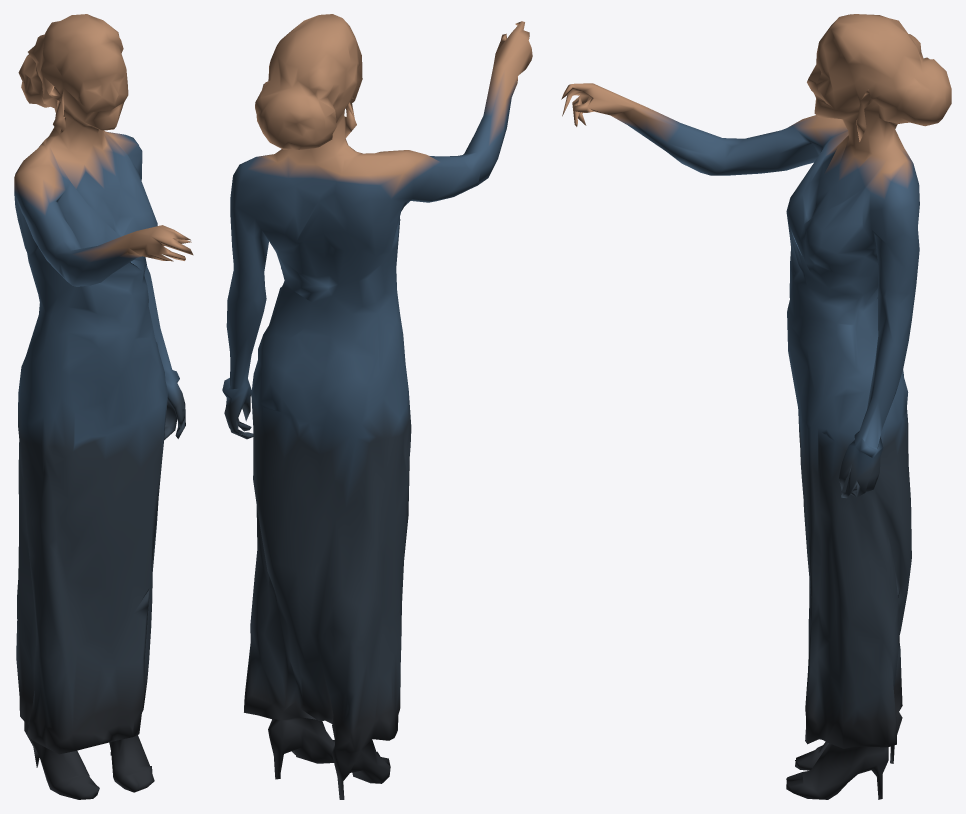
Rendered from people_typ9_stand.glb.
The picture shows the model from 3 angles, left to right: view 1: azimuth 30°, elevation 25°; view 2: azimuth 150°, elevation 25°; view 3: azimuth 270°, elevation 25°; orthographic projection.
Visible parts, largest first — view 1: people_typ9_stand-mesh; view 2: people_typ9_stand-mesh; view 3: people_typ9_stand-mesh.
Part boxes in pixels (x1,y1,x2,y2): people_typ9_stand-mesh: (14,14,193,799); people_typ9_stand-mesh: (222,14,532,799); people_typ9_stand-mesh: (561,14,951,799).
Size of the model in its own units: 0.4693 by 1.77 by 0.8219.
